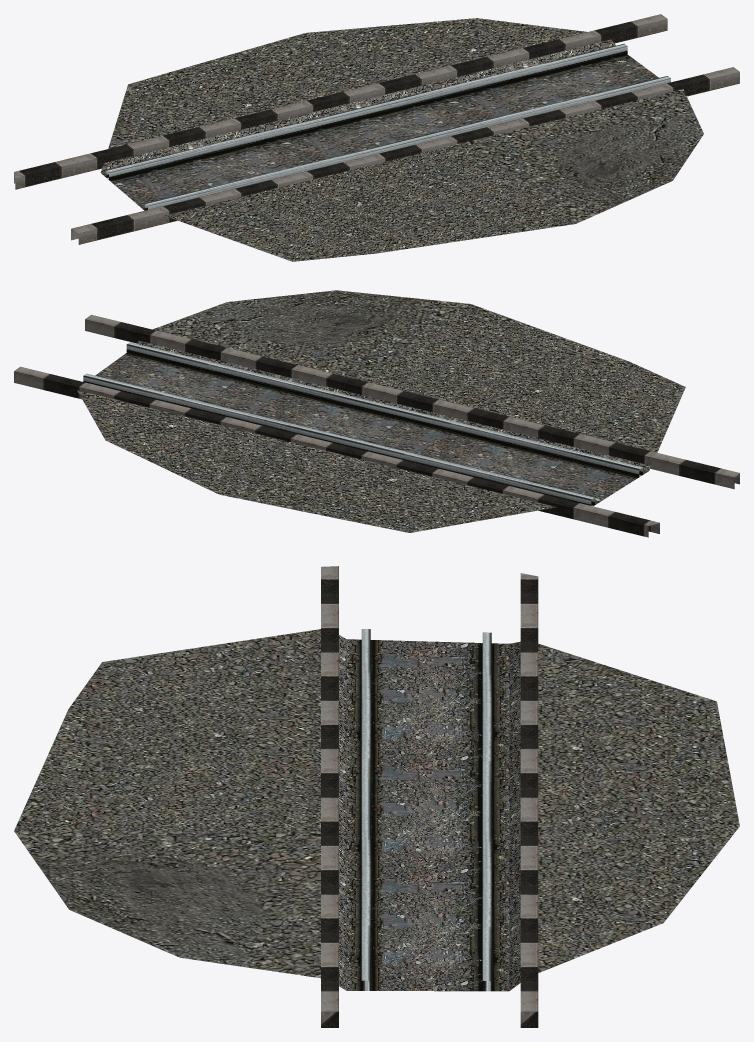
The picture shows the model from 3 angles, top to bottom: view 1: azimuth 30°, elevation 25°; view 2: azimuth 150°, elevation 25°; view 3: azimuth 270°, elevation 25°; orthographic projection. The views are drawn at different scales.
Visible parts, largest first — view 1: terrain_ok, Object01; view 2: terrain_ok, Object01; view 3: terrain_ok, Object01.
Part boxes in pixels (bbox=[...]): terrain_ok: bbox=[100, 18, 703, 261]; Object01: bbox=[14, 14, 739, 244]; terrain_ok: bbox=[77, 290, 685, 532]; Object01: bbox=[14, 314, 739, 537]; terrain_ok: bbox=[14, 629, 739, 991]; Object01: bbox=[321, 566, 538, 1027].
Size of the model in its own units: 1179 by 20.3 by 812.
